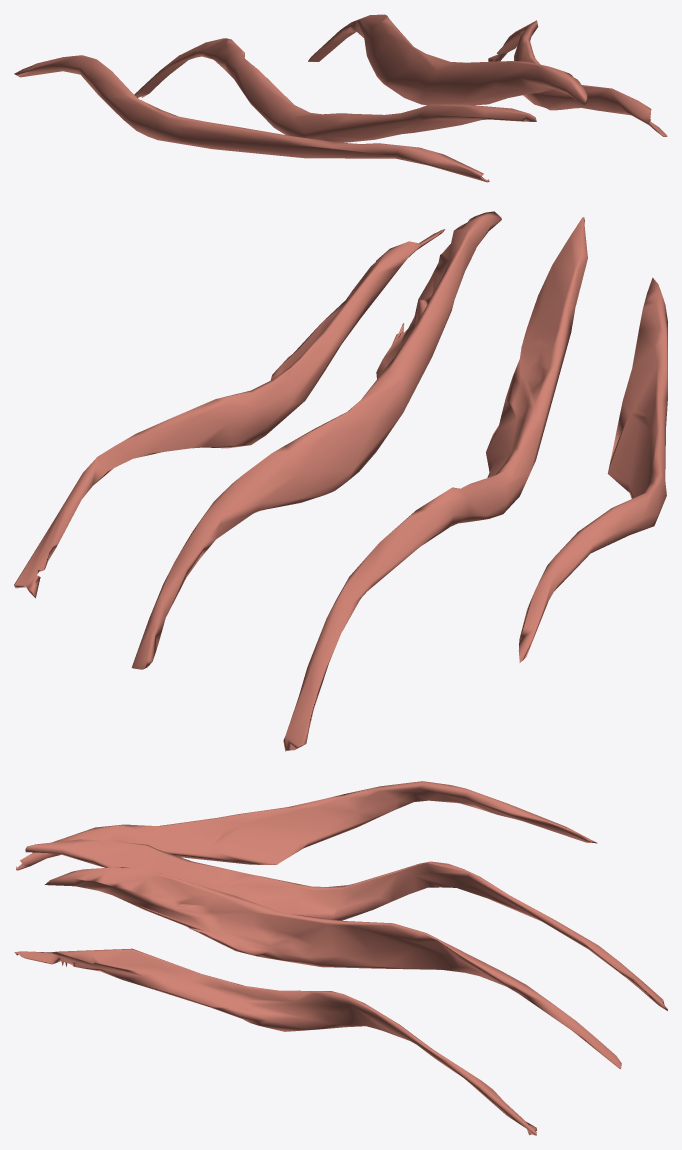
3 views of the same model, one above another, from view 1: azimuth 30°, elevation 25°; view 2: azimuth 150°, elevation 25°; view 3: azimuth 270°, elevation 25° (orthographic). The views are drawn at different scales.
Visible parts, largest first — view 1: 右侧蚓状肌; view 2: 右侧蚓状肌; view 3: 右侧蚓状肌.
Part boxes in pixels (x1=…): 右侧蚓状肌: x1=14, y1=14, x2=667, y2=182; 右侧蚓状肌: x1=14, y1=211, x2=667, y2=751; 右侧蚓状肌: x1=14, y1=781, x2=667, y2=1135.
Bounding box in the file's own units: 0.1116 × 0.0473 × 0.1369.
